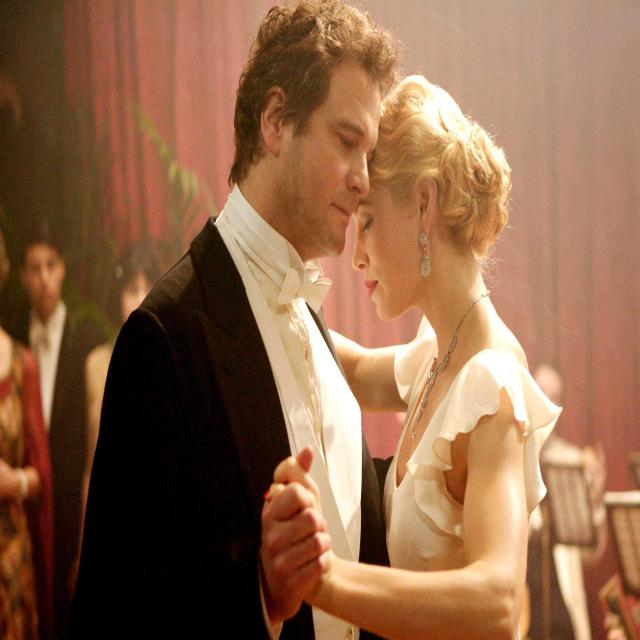no-earmuff: (406, 151, 446, 265), (256, 78, 301, 171)
